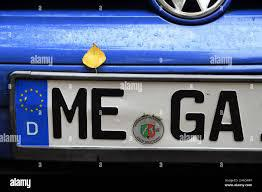A: (208, 89, 245, 145)
E: (90, 87, 129, 140)
G: (169, 87, 206, 142)
M: (51, 86, 89, 141)
